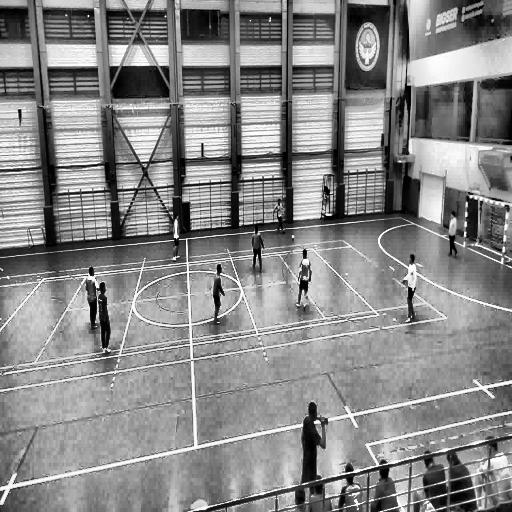ball: (290, 233, 295, 240)
player: (301, 403, 327, 489), (96, 279, 112, 358), (295, 248, 312, 312), (85, 266, 101, 330), (402, 254, 416, 322), (213, 263, 226, 324), (251, 225, 265, 272), (447, 210, 458, 257), (172, 214, 181, 262), (275, 200, 285, 234)
